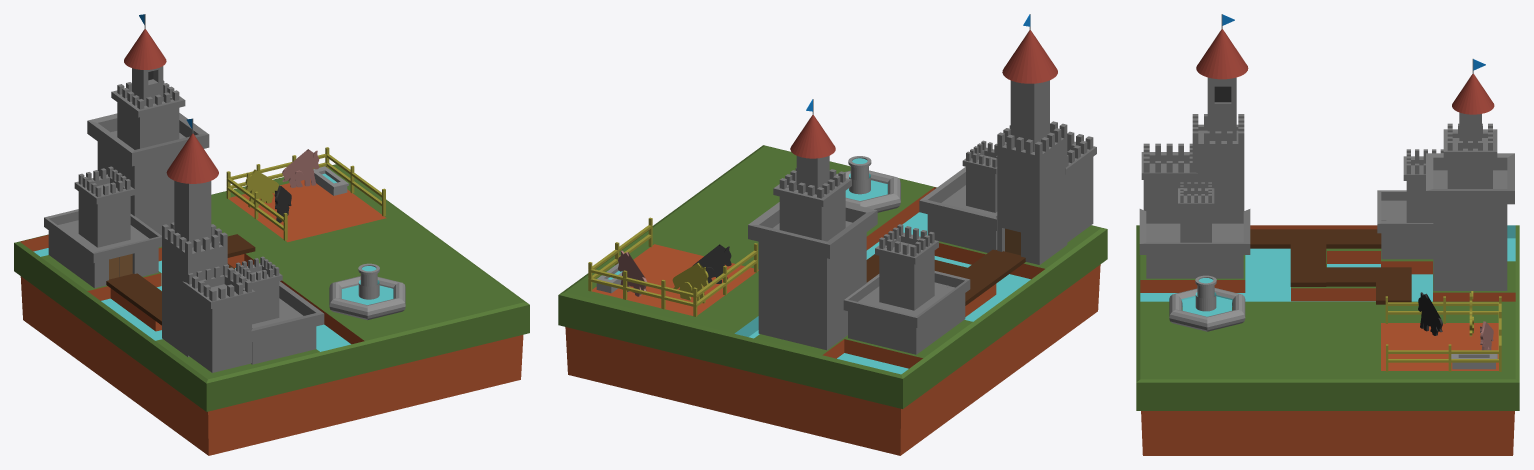
Rendered from castillo.fbx.
3 renders of one model, left to right at view 1: azimuth 30°, elevation 25°; view 2: azimuth 150°, elevation 25°; view 3: azimuth 270°, elevation 25°, orthographic. The views are drawn at different scales.
Parts seen in each view (by area): view 1: Cylinder, Cylinder.047, Cylinder.039, Cylinder.031, Cylinder.013, Cylinder.046, Cylinder.012, Cylinder.030; view 2: Cylinder, Cylinder.047, Cylinder.039, Cylinder.013, Cylinder.046, Cylinder.031, Cylinder.030, Cylinder.009, Cylinder.012; view 3: Cylinder, Cylinder.047, Cylinder.039, Cylinder.046, Cylinder.031, Cylinder.013, Cylinder.009.
Boxes of the visible parts, bbox=[...] form: Cylinder: bbox=[14, 164, 529, 455]; Cylinder.047: bbox=[44, 14, 209, 288]; Cylinder.039: bbox=[162, 118, 324, 372]; Cylinder.031: bbox=[329, 263, 405, 320]; Cylinder.013: bbox=[226, 147, 385, 240]; Cylinder.046: bbox=[106, 234, 255, 325]; Cylinder.012: bbox=[282, 149, 319, 187]; Cylinder.030: bbox=[245, 169, 279, 207]; Cylinder: bbox=[558, 145, 1107, 455]; Cylinder.047: bbox=[748, 99, 970, 354]; Cylinder.039: bbox=[919, 14, 1096, 264]; Cylinder.013: bbox=[588, 217, 757, 316]; Cylinder.046: bbox=[866, 249, 1025, 305]; Cylinder.031: bbox=[836, 156, 900, 212]; Cylinder.030: bbox=[672, 262, 708, 303]; Cylinder.009: bbox=[693, 244, 731, 283]; Cylinder.012: bbox=[618, 250, 646, 296]; Cylinder: bbox=[1136, 225, 1519, 455]; Cylinder.047: bbox=[1377, 58, 1514, 290]; Cylinder.039: bbox=[1139, 14, 1250, 278]; Cylinder.046: bbox=[1250, 229, 1411, 304]; Cylinder.031: bbox=[1169, 275, 1245, 331]; Cylinder.013: bbox=[1385, 296, 1501, 371]; Cylinder.009: bbox=[1418, 292, 1442, 335].
Size of the model in its own units: 1714 by 1530 by 1765.
